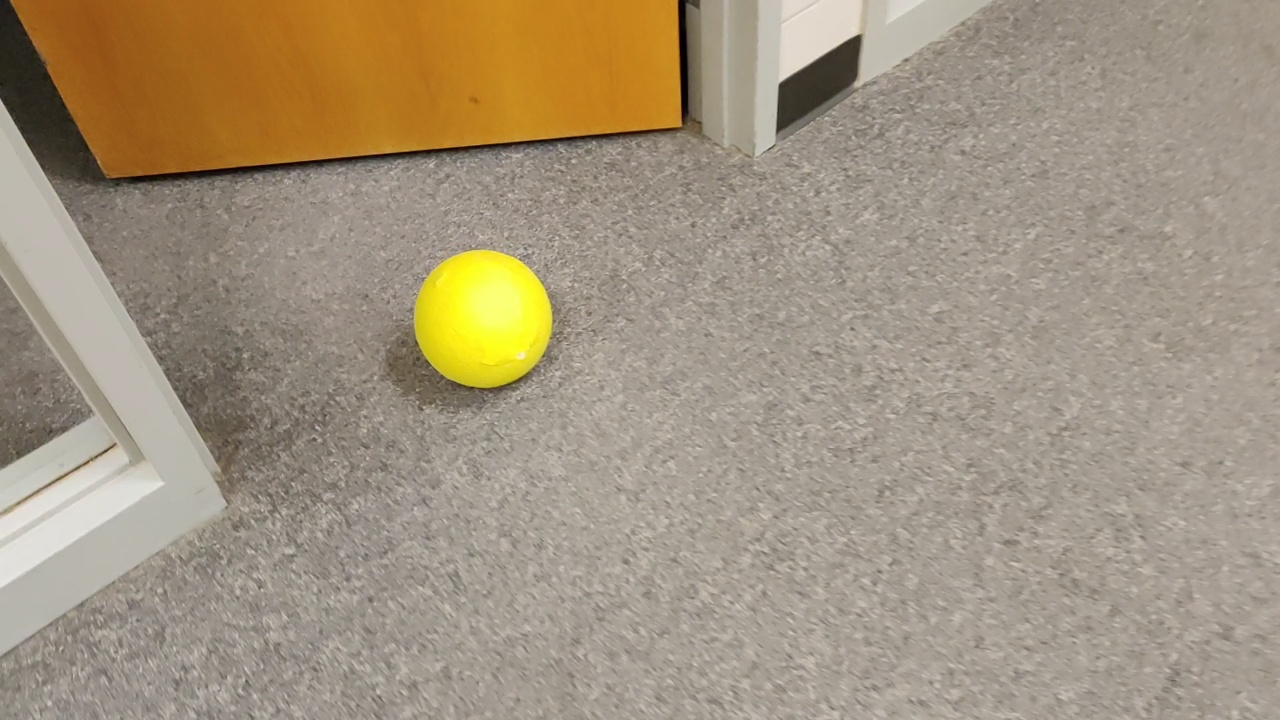Ball: (415, 250, 559, 384)
